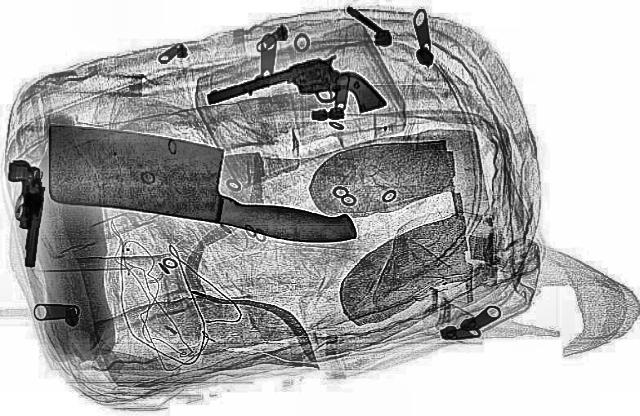Gun: (191, 48, 391, 136), (0, 154, 68, 270)
Knife: (22, 121, 392, 249)
